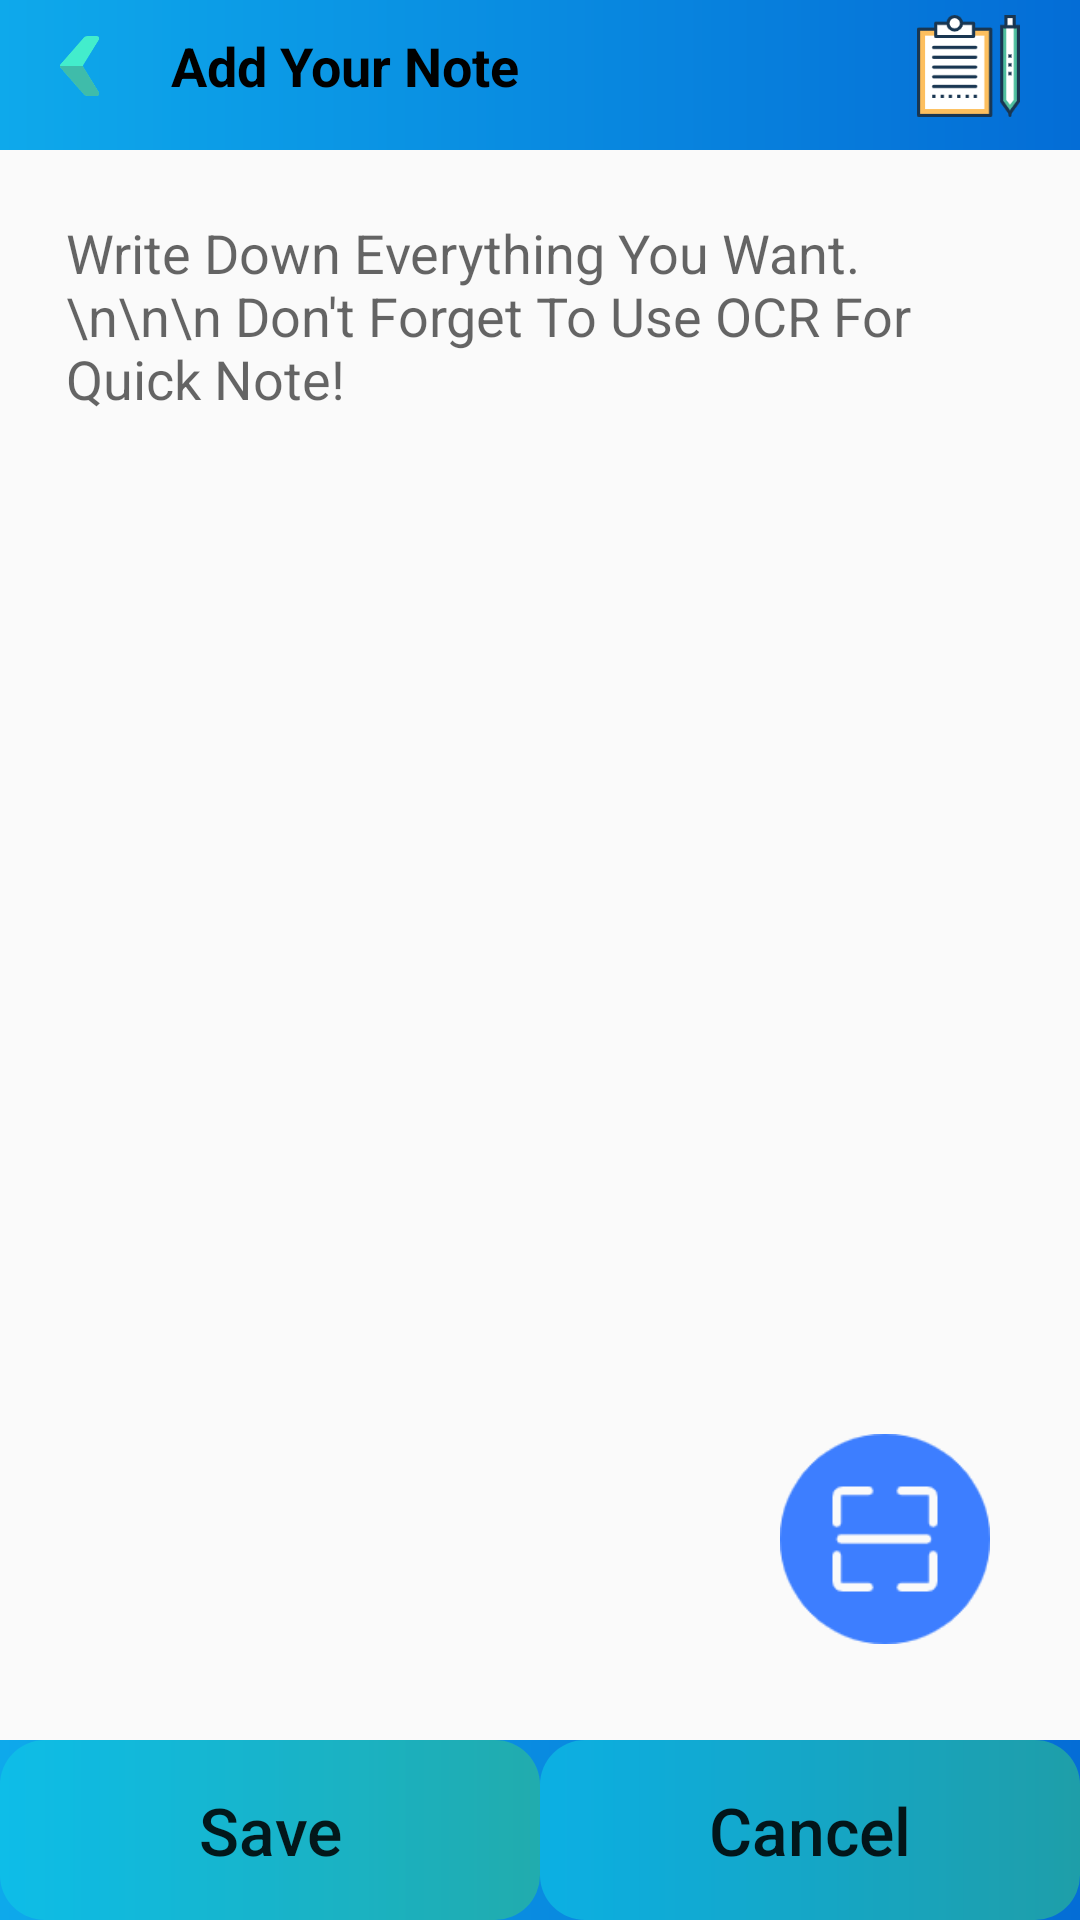

Icon bounding boxes for this 1080 x 1920 phone screenshot, format box=[x1, y1, x2, y2]:
backward: box=[60, 36, 99, 96]
